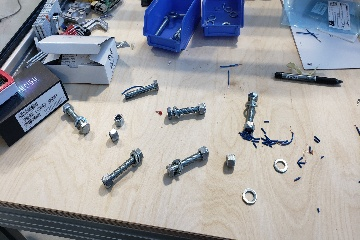Bolt: (119, 76, 160, 101)
FalseAssembly: (241, 86, 259, 138), (164, 101, 209, 121)
FinishedAssembly: (98, 143, 146, 189), (166, 142, 212, 181), (60, 101, 97, 136)
Nut: (108, 114, 126, 128), (224, 153, 236, 170), (107, 129, 122, 142)
Washer: (240, 186, 259, 207), (273, 157, 288, 173)
